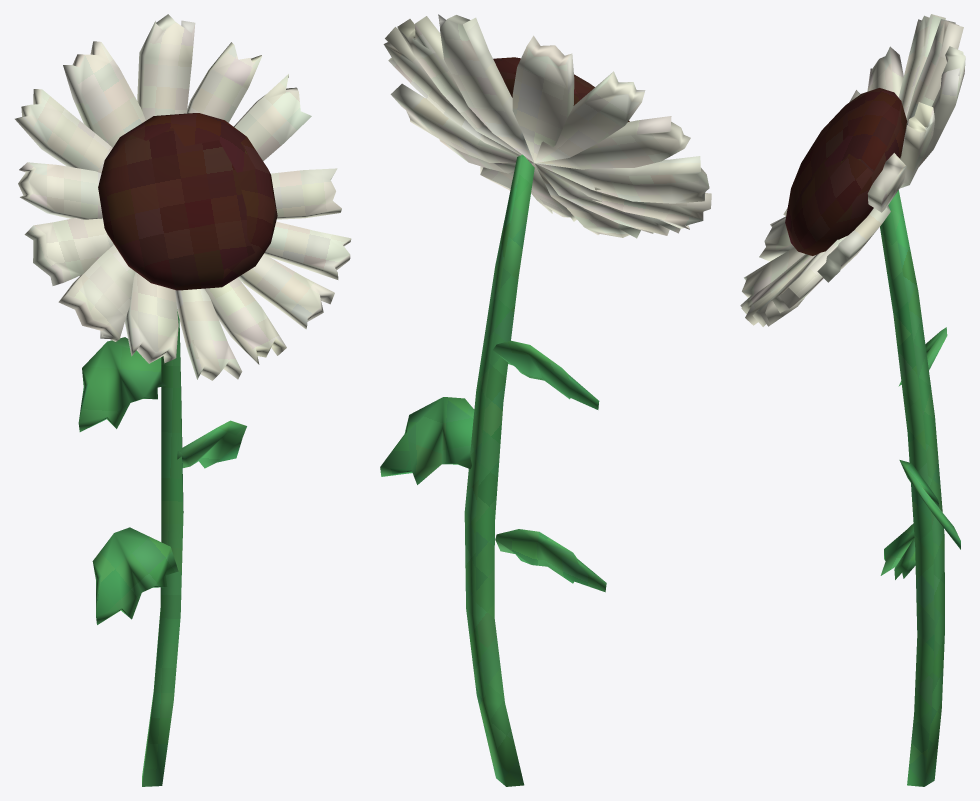
File: white_sunflower.fbx
3 renders of one model, left to right at view 1: azimuth 30°, elevation 25°; view 2: azimuth 150°, elevation 25°; view 3: azimuth 270°, elevation 25°, orthographic. The views are drawn at different scales.
Visible parts, largest first — view 1: white_sunflower; view 2: white_sunflower; view 3: white_sunflower.
Part boxes in pixels (x1,y1,x2,y2): white_sunflower: [15, 14, 351, 786]; white_sunflower: [380, 14, 711, 786]; white_sunflower: [740, 14, 965, 786].
Size of the model in its own units: 28.27 by 65.75 by 17.96.
